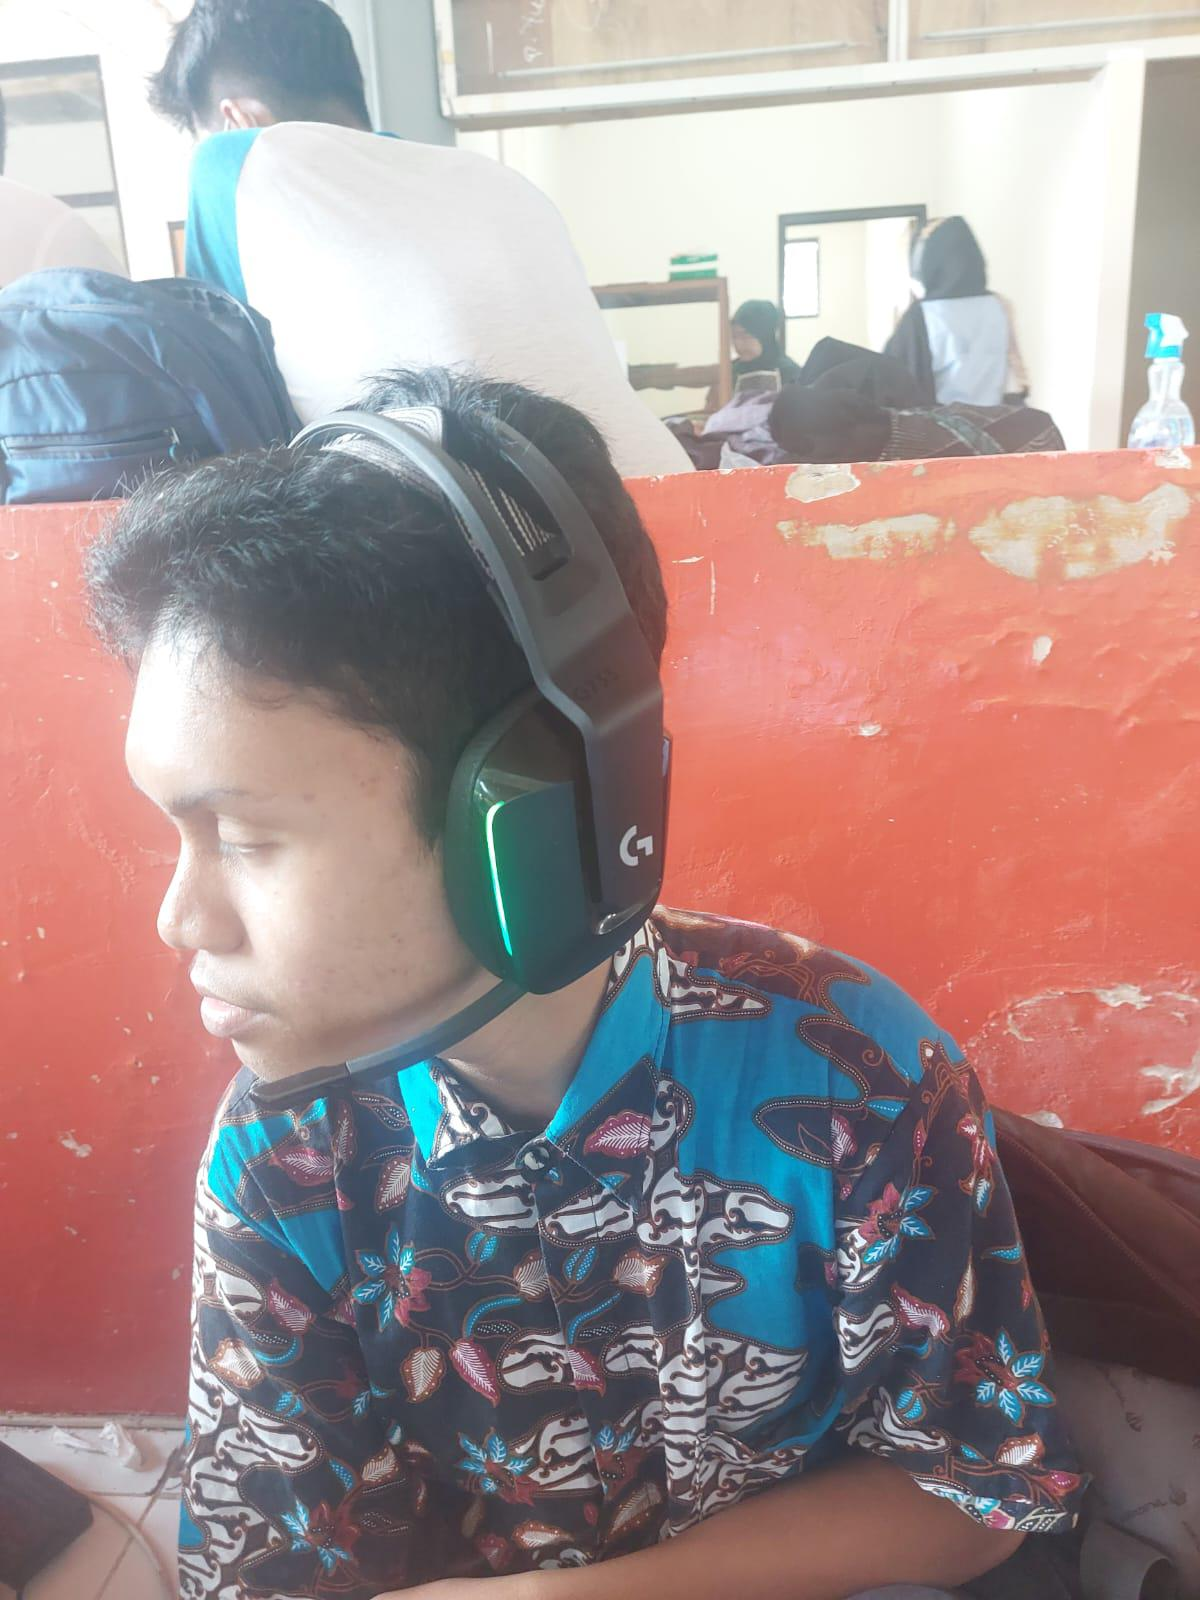Headset: (237, 387, 716, 1129)
